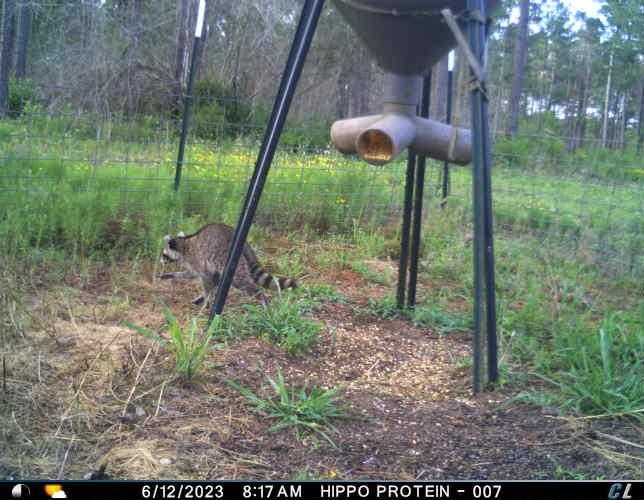Raccoon: (157, 217, 299, 311)
